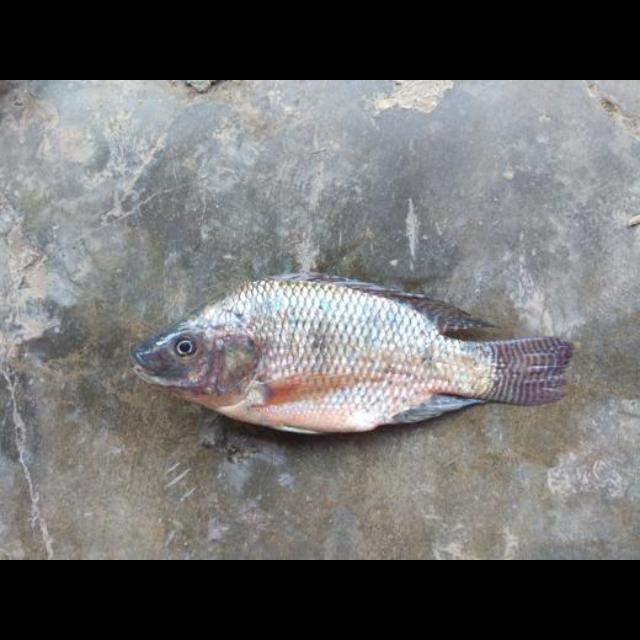Tilapia: (134, 274, 576, 438)
